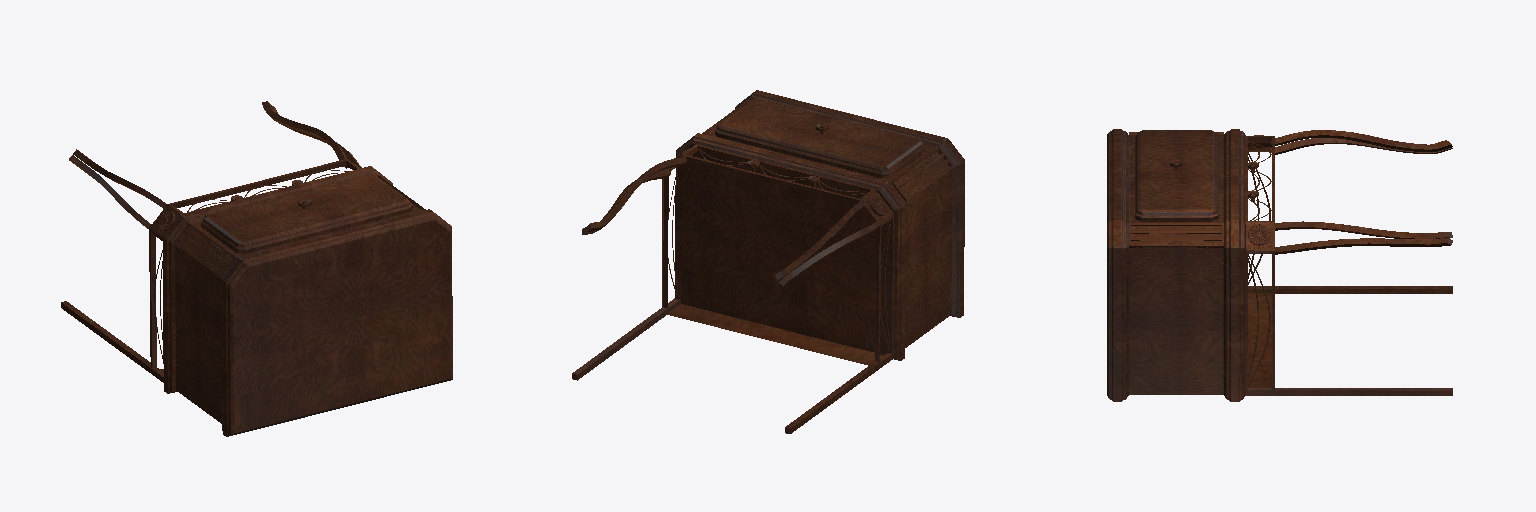
3 views of the same model, side by side, from view 1: azimuth 30°, elevation 25°; view 2: azimuth 150°, elevation 25°; view 3: azimuth 270°, elevation 25° (orthographic).
Bounding box in the file's own units: 0.4888 × 0.3806 × 0.6431.
Materials: 1 (1 with a texture image).